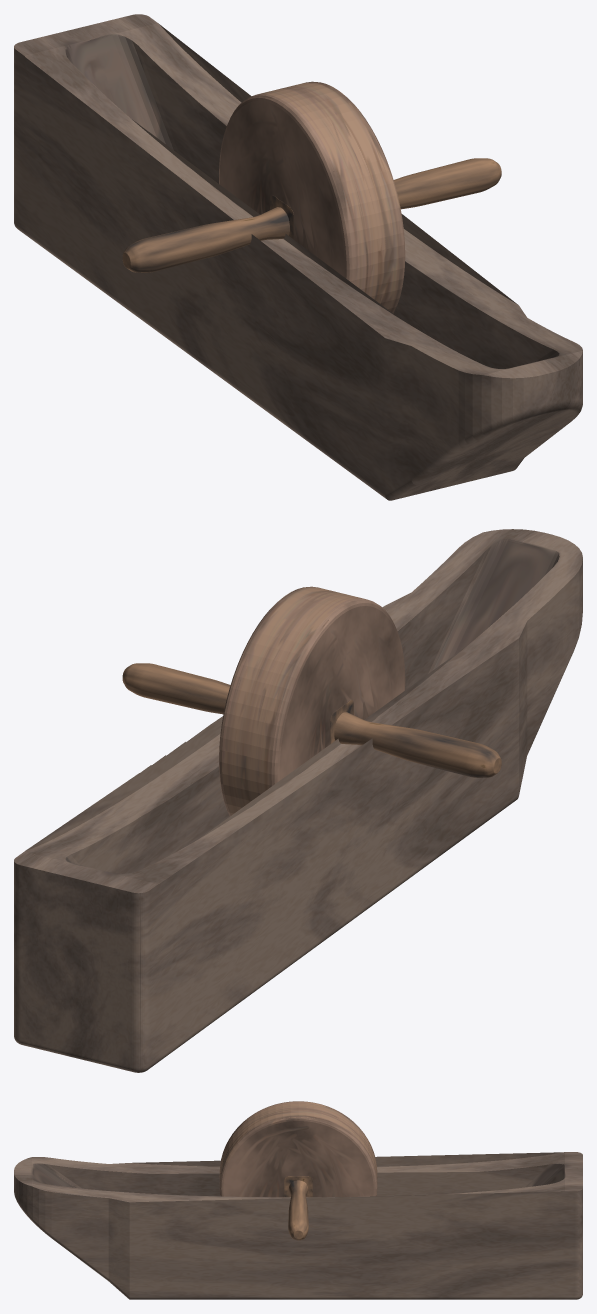
File: Kahvihuhmar.fbx
The picture shows the model from 3 angles, top to bottom: view 1: azimuth 30°, elevation 25°; view 2: azimuth 150°, elevation 25°; view 3: azimuth 270°, elevation 25°; orthographic projection. The views are drawn at different scales.
Parts seen in each view (by area): view 1: Cube.003; view 2: Cube.003; view 3: Cube.003.
Boxes of the visible parts, <box> form: Cube.003: <box>14,14,582,500</box>; Cube.003: <box>14,529,582,1072</box>; Cube.003: <box>14,1101,582,1299</box>.
Size of the model in its own units: 139 by 102 by 305.
Materials: 4 (4 with a texture image).
